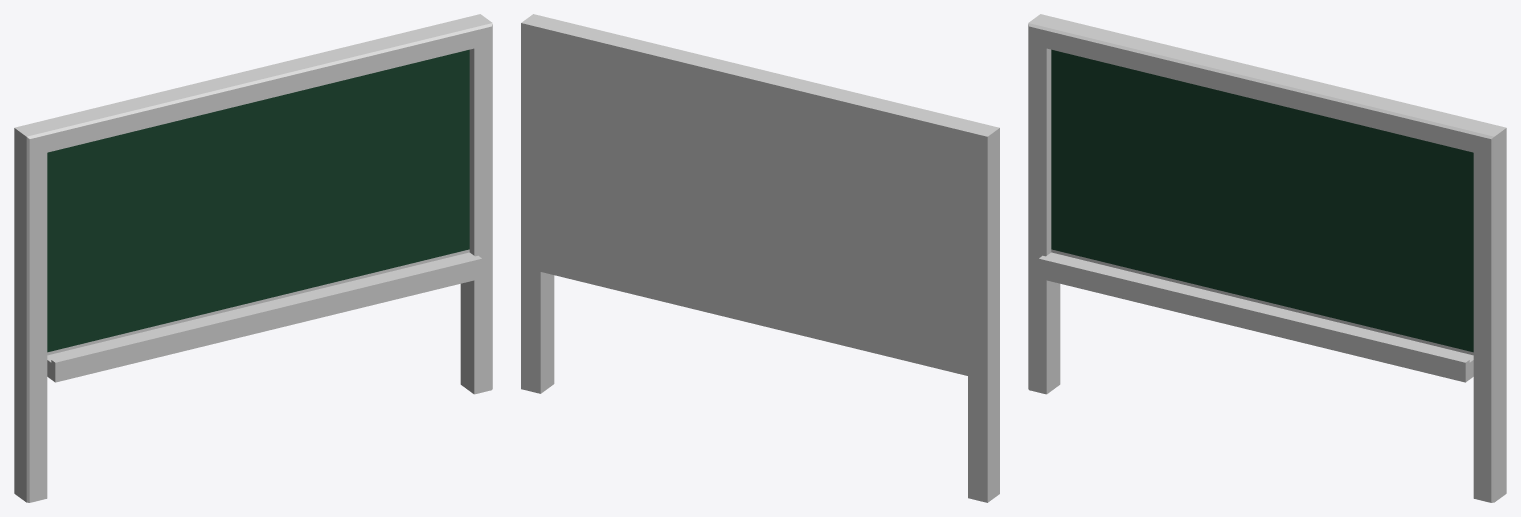
The model's file is SchoolBoard.fbx.
3 views of the same model, side by side, from view 1: azimuth 30°, elevation 25°; view 2: azimuth 150°, elevation 25°; view 3: azimuth 330°, elevation 25° (orthographic).
Parts seen in each view (by area): view 1: school_board; view 2: school_board; view 3: school_board.
Part boxes in pixels (bbox=[...]): school_board: bbox=[14, 14, 492, 502]; school_board: bbox=[521, 14, 999, 502]; school_board: bbox=[1028, 14, 1506, 502].
Bounding box in the file's own units: 4 × 0.3198 × 3.
